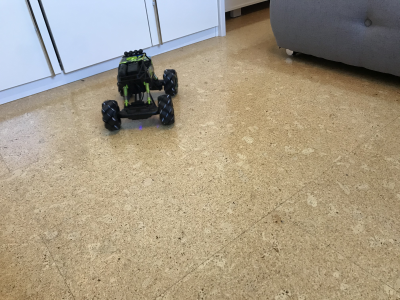remote control car: (94, 45, 181, 133)
